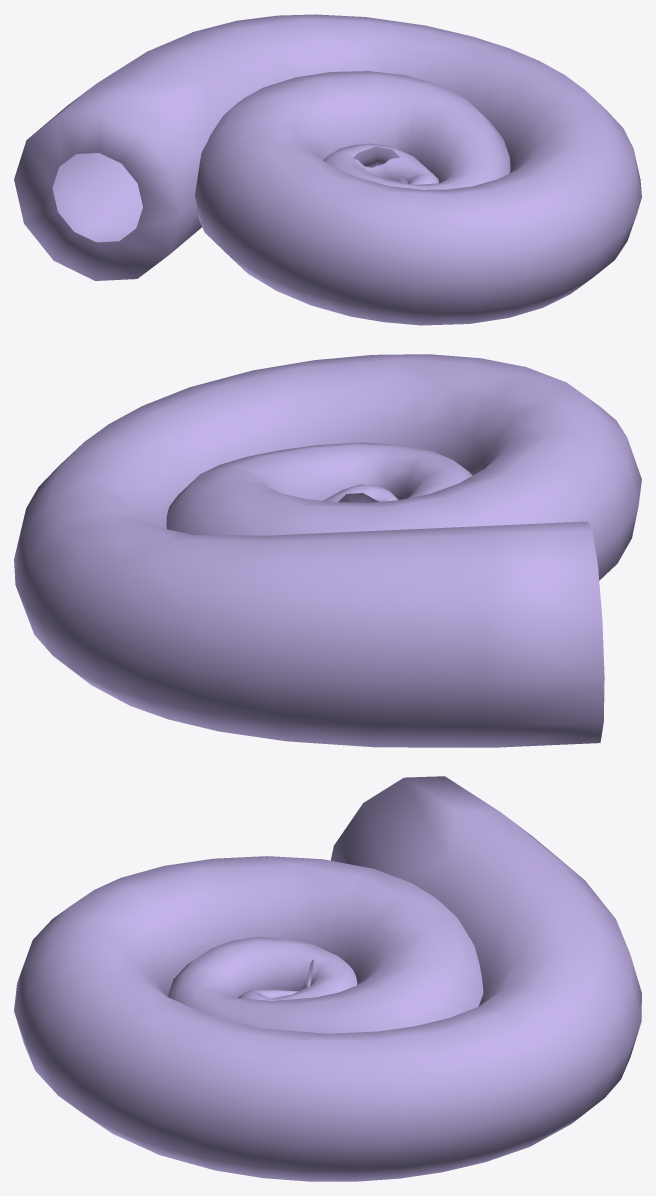
The model's file is shell2.fbx.
The picture shows the model from 3 angles, top to bottom: view 1: azimuth 30°, elevation 25°; view 2: azimuth 150°, elevation 25°; view 3: azimuth 270°, elevation 25°; orthographic projection. The views are drawn at different scales.
Visible parts, largest first — view 1: shell2; view 2: shell2; view 3: shell2.
Part boxes in pixels (x1,y1,x2,y2): shell2: (14, 14, 641, 325); shell2: (14, 354, 641, 747); shell2: (14, 776, 641, 1181).
Size of the model in its own units: 14 by 4.36 by 13.54.
